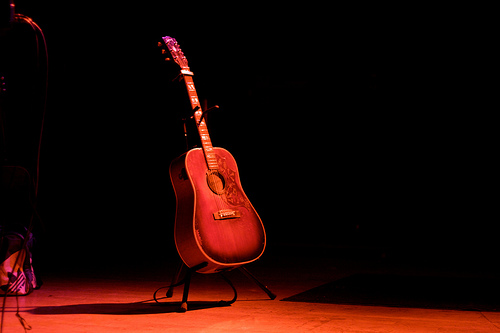guitar: (155, 32, 269, 272)
